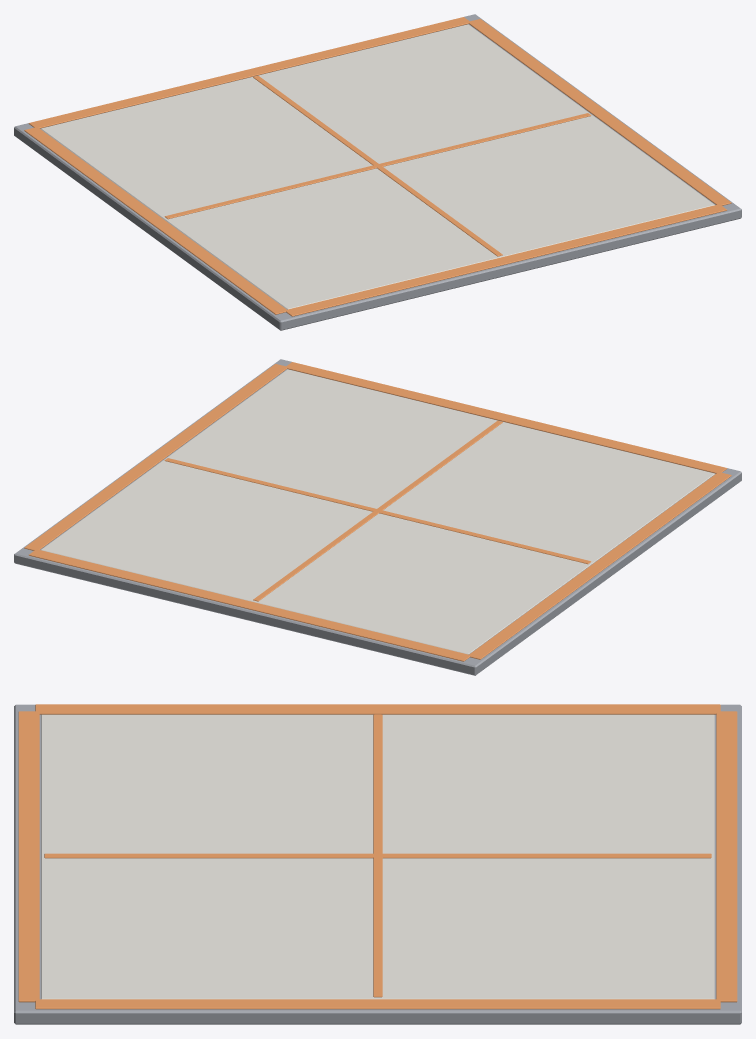
The model's file is university-lecture-hall-and-campus-floor-tile-accent-56eb820b__34776.glb.
3 views of the same model, one above another, from view 1: azimuth 30°, elevation 25°; view 2: azimuth 150°, elevation 25°; view 3: azimuth 270°, elevation 25° (orthographic). The views are drawn at different scales.
Parts seen in each view (by area): view 1: floor-tile-accent; view 2: floor-tile-accent; view 3: floor-tile-accent.
Part boxes in pixels (left/top/right/bottom): floor-tile-accent: left=14, top=14, right=741, bottom=330; floor-tile-accent: left=14, top=359, right=741, bottom=675; floor-tile-accent: left=14, top=704, right=741, bottom=1024.
Size of the model in its own units: 2.4 by 0.059 by 2.4.
